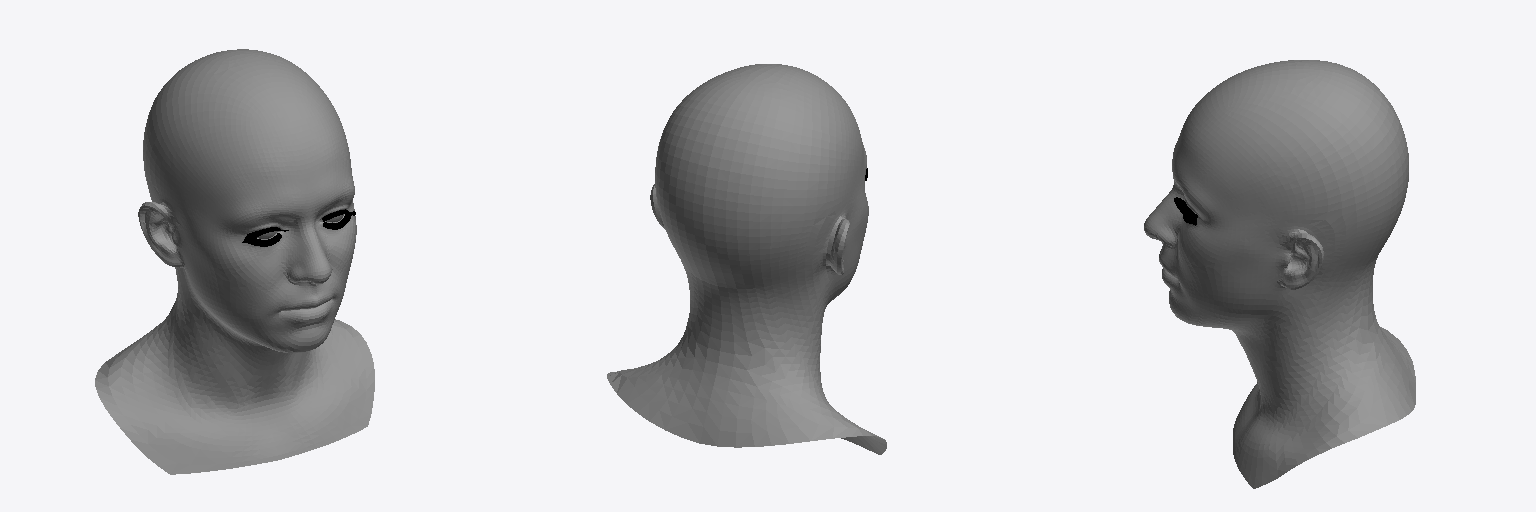
File: cheekSquint_L.obj
3 views of the same model, side by side, from view 1: azimuth 30°, elevation 25°; view 2: azimuth 150°, elevation 25°; view 3: azimuth 270°, elevation 25° (orthographic).
Size of the model in its own units: 24.83 by 33.81 by 22.32.